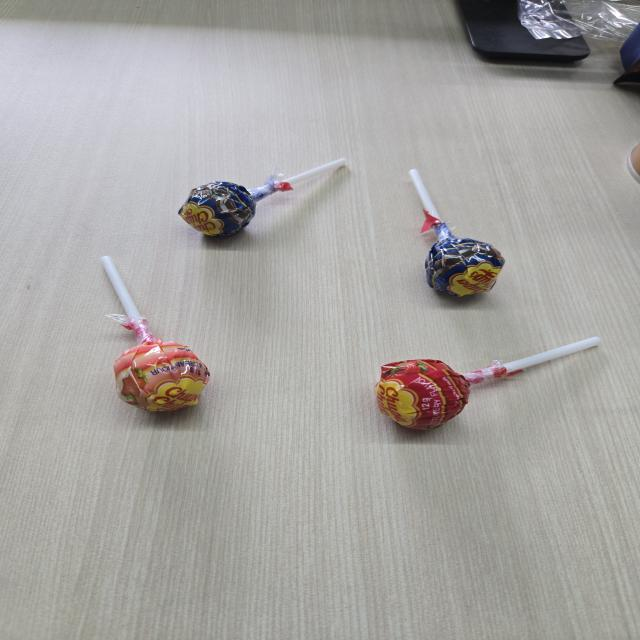lollipop: (371, 336, 602, 434), (94, 250, 215, 422), (172, 158, 351, 241), (404, 168, 505, 304)
